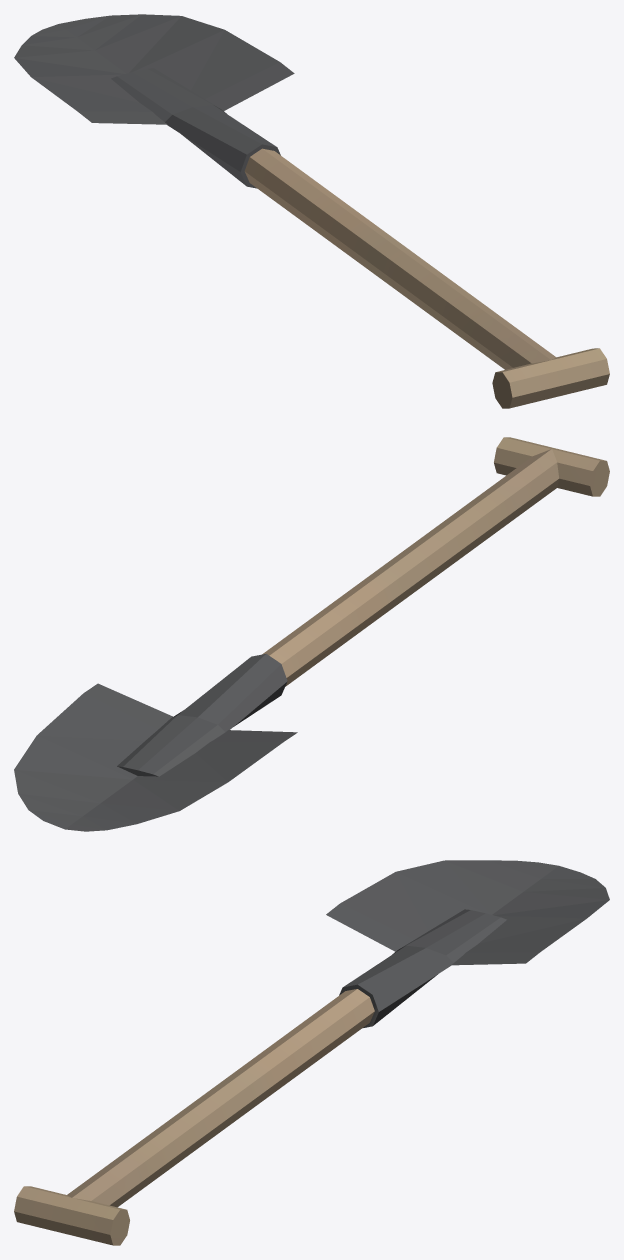
Rendered from Spade.glb.
The picture shows the model from 3 angles, top to bottom: view 1: azimuth 30°, elevation 25°; view 2: azimuth 150°, elevation 25°; view 3: azimuth 330°, elevation 25°; orthographic projection.
Parts seen in each view (by area): view 1: Spade; view 2: Spade; view 3: Spade.
Part boxes in pixels (x1,y1,x2,y2): Spade: (14,14,609,408); Spade: (14,437,609,831); Spade: (14,860,609,1245).
Size of the model in its own units: 0.6574 by 0.14 by 2.82.
Materials: 1 (1 with a texture image).
